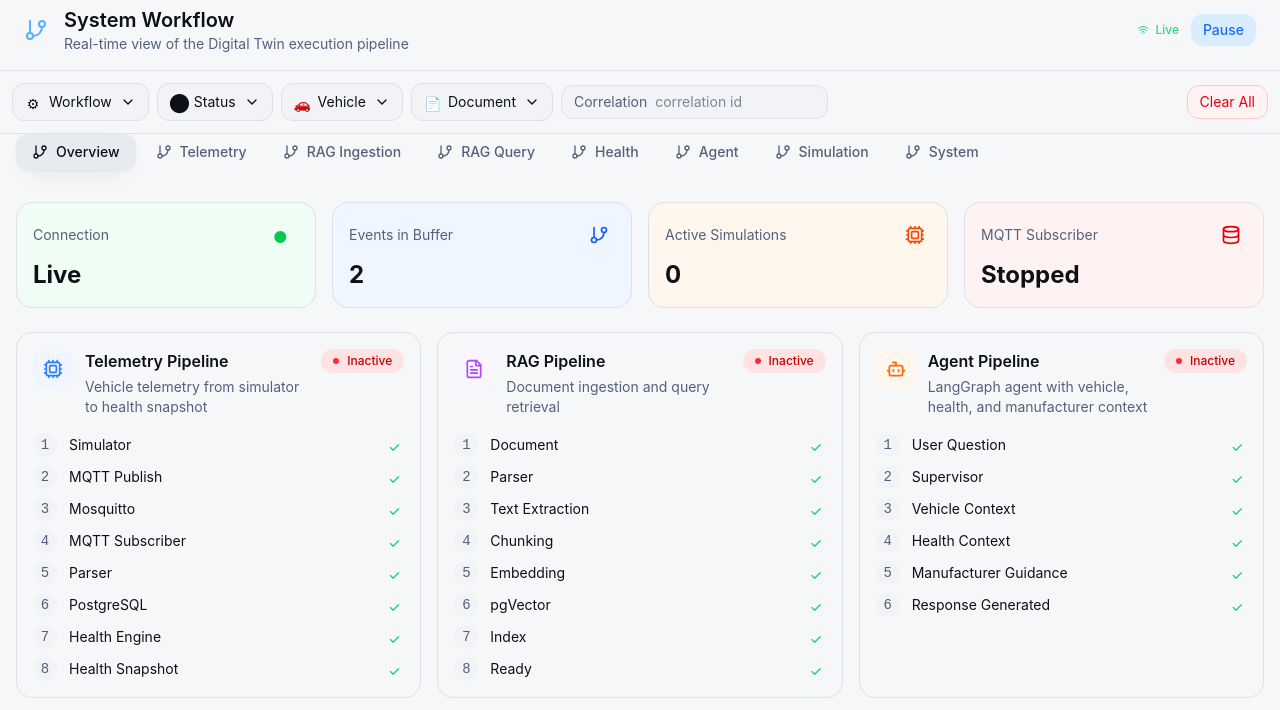
Test: WorkflowView monitor controls › narrows the timeline to the selected tab's workflow
The width and height of the screenshot is (1280, 710).
Click the tab "RAG Query".
click(486, 152)  # box [421,134,551,170]
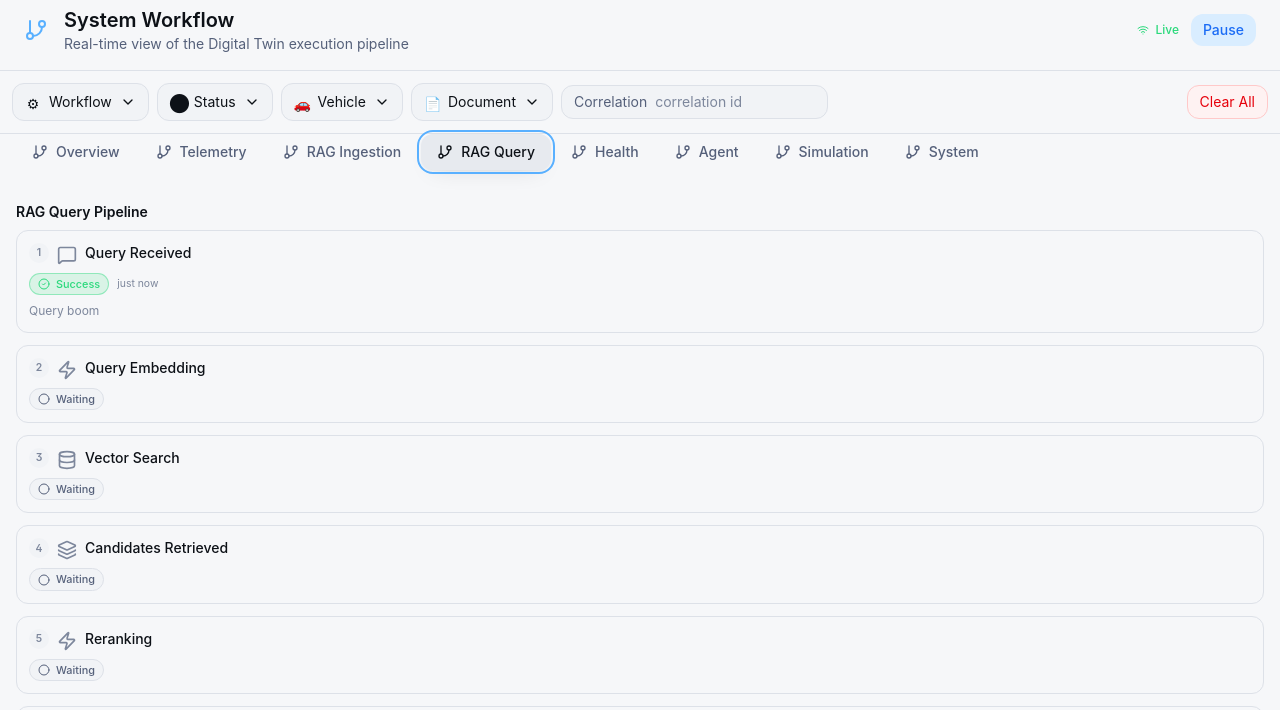
expect the text "Telemetry boom" is not shown: met
Click the tab "Telemetry".
click(201, 152)  # box [140,134,263,170]
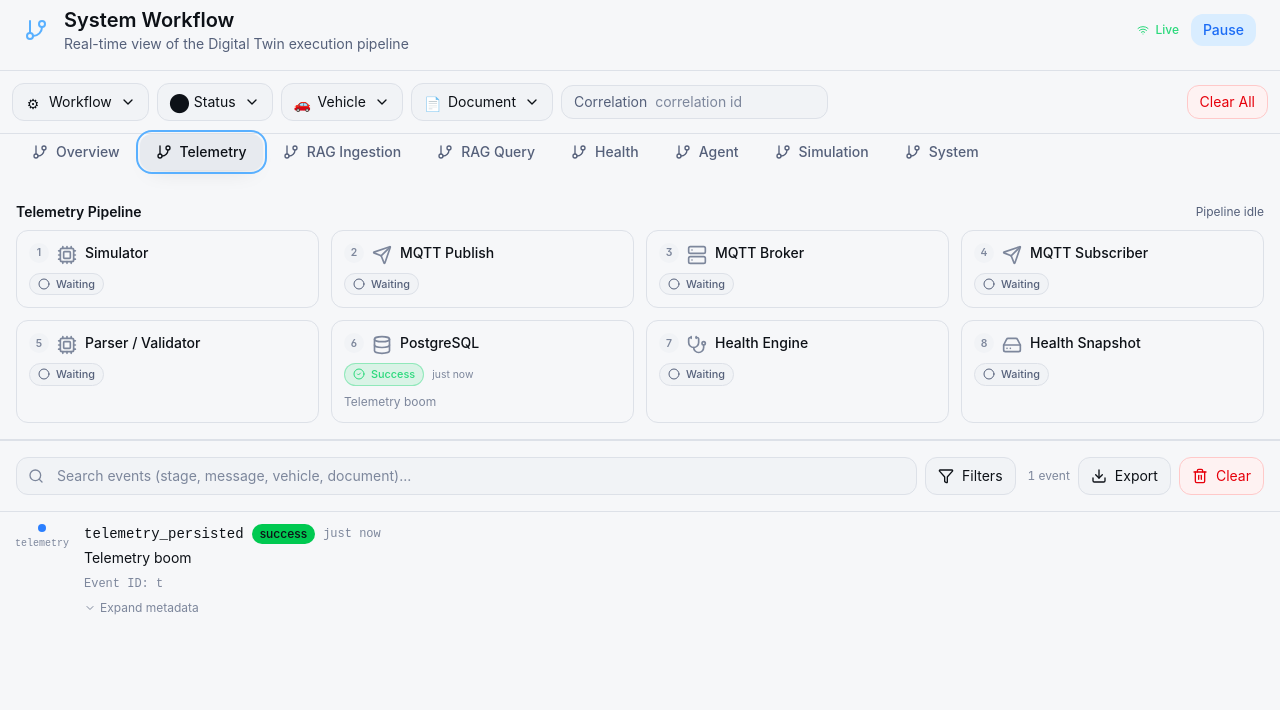
expect the text "Telemetry boom" below "telemetry_persisted" is shown: met, box [84,549,192,566]
expect the text "Query boom" is gone: met
// Overview restores the full feed.
Click the tab "Overview".
click(76, 152)  # box [16,134,136,170]
(page scrolled)
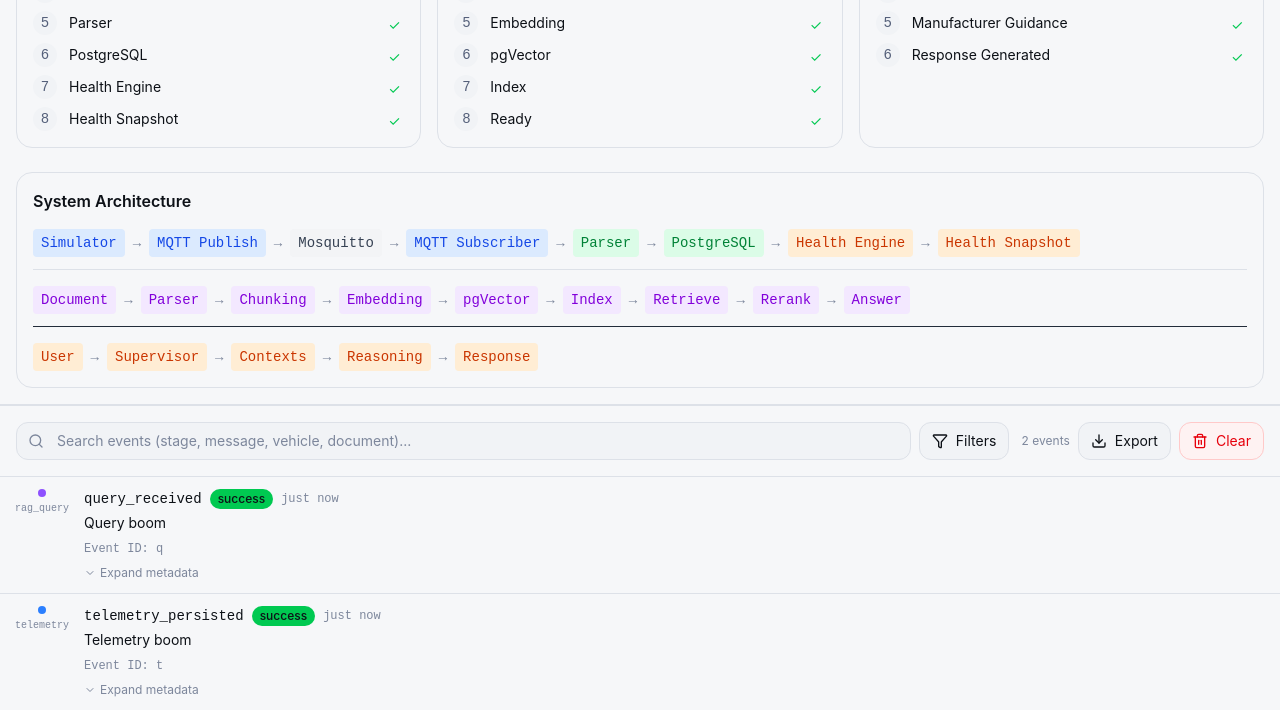
expect the text "Telemetry boom" is shown: met, box [84,631,192,648]
expect the text "Query boom" is shown: met, box [84,514,166,531]
